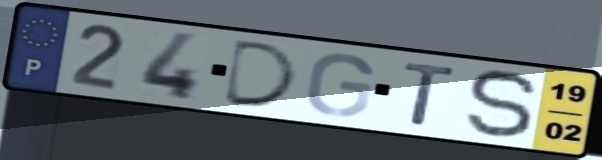2: (67, 22, 128, 93)
4: (137, 30, 205, 102)
D: (218, 37, 303, 111)
G: (302, 51, 378, 119)
S: (463, 68, 542, 142)
T: (401, 59, 460, 129)
